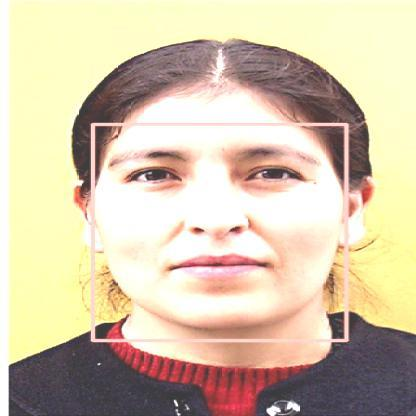without_mask: (92, 124, 346, 340)
